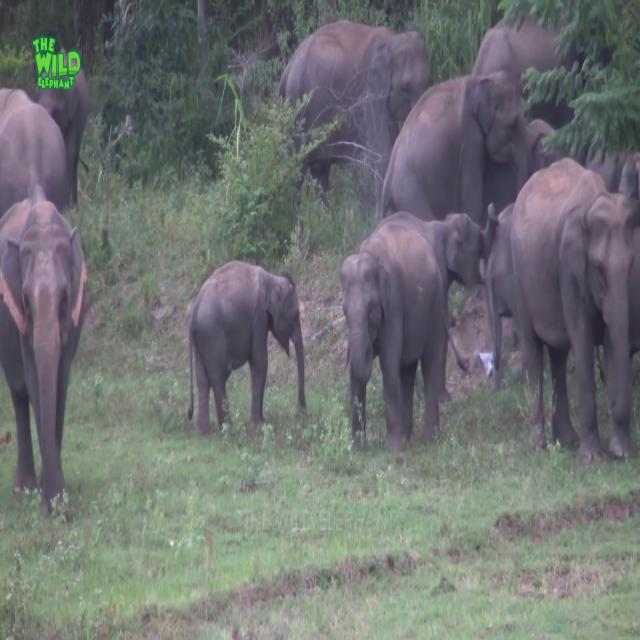Elephant: (277, 19, 432, 220), (0, 184, 87, 521), (340, 224, 448, 453), (374, 207, 499, 402), (187, 259, 307, 437), (0, 86, 67, 217), (34, 65, 90, 208)
